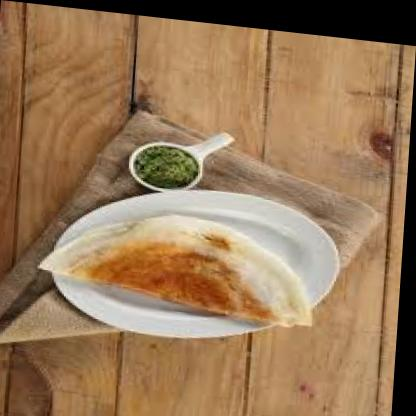dosa: (37, 199, 320, 322)
